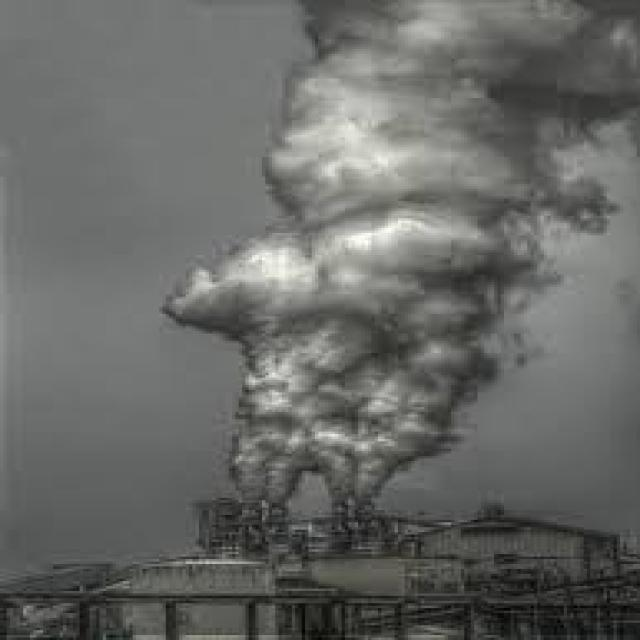Smoke: (160, 0, 640, 517)
